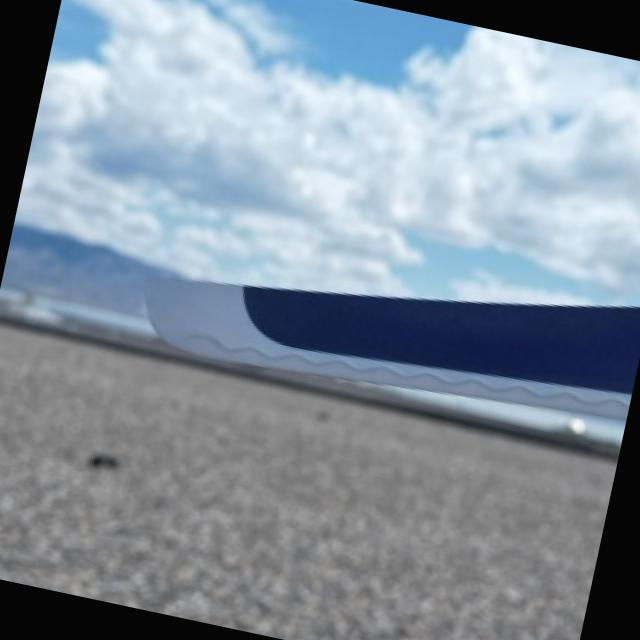healthy: (149, 277, 640, 418)
